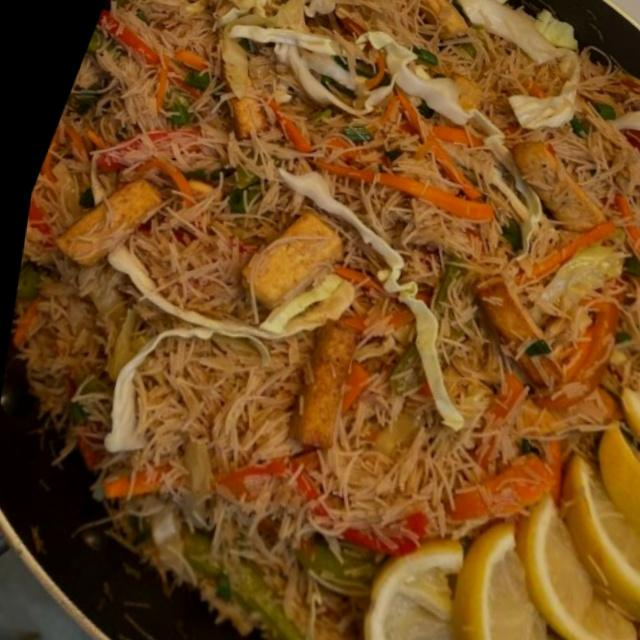pancit bihon: (10, 2, 639, 639)
